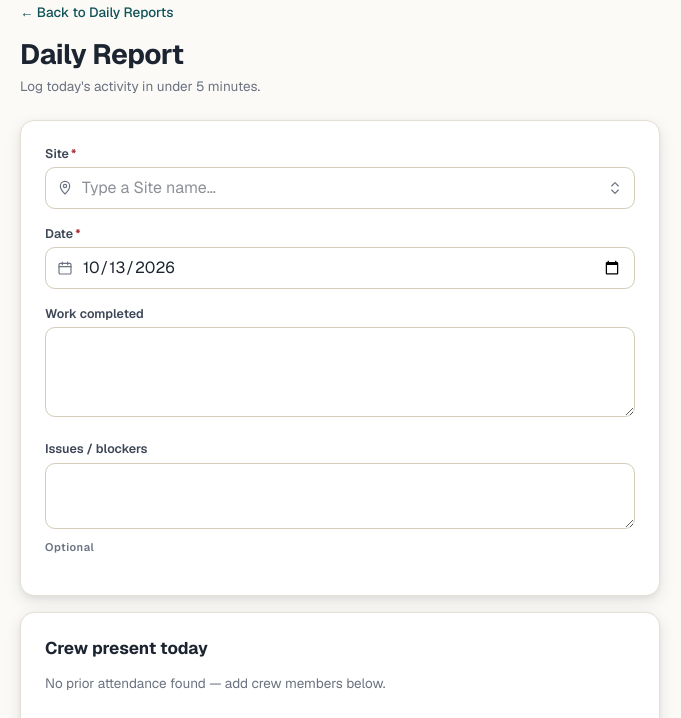
Test: NewDsrPage › shows the current Site Stock for a selected Material (FR-14 visibility)
Type "NH" into the dropdown labelled "Site".
click(340, 188); type("NH")  # box [45,167,635,209]
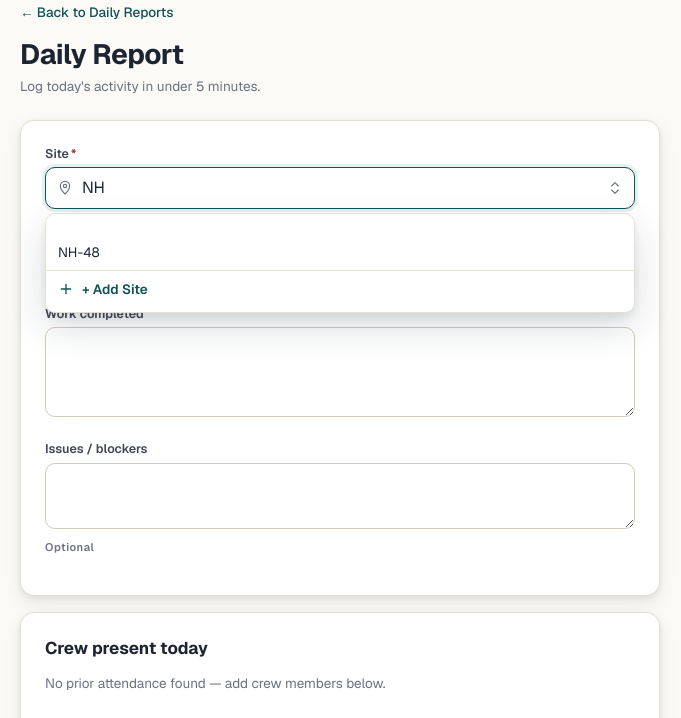
Click the option "NH-48".
click(79, 252)  # box [58,243,100,261]
(page scrolled)
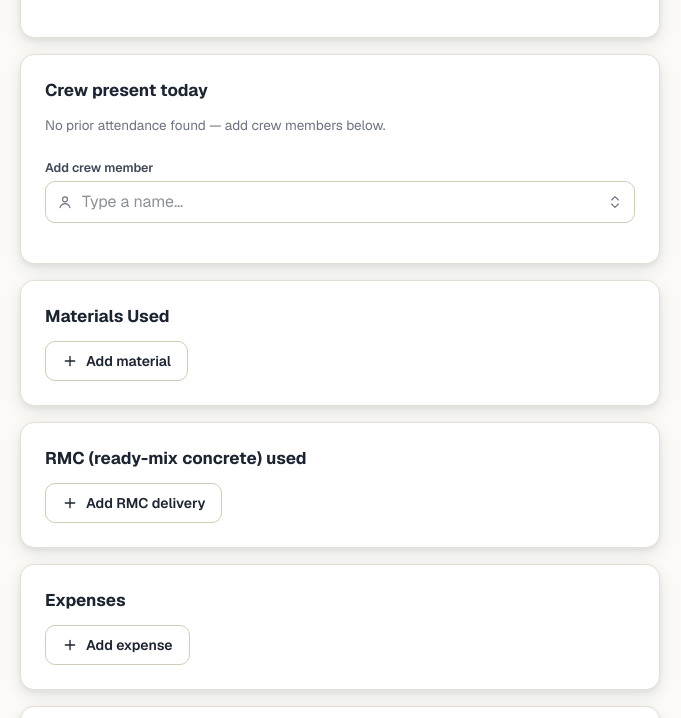
Click the button "Add material".
click(116, 361)  # box [45,341,188,381]
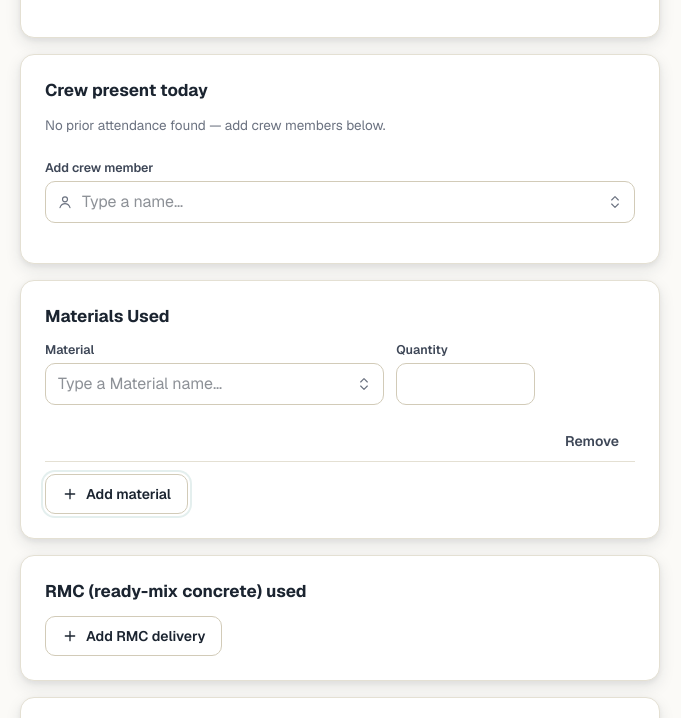
Check: the dropdown labelled "Material" is enabled
Type "cem" into the dropdown labelled "Material".
click(215, 384); type("cem")  # box [45,363,384,405]
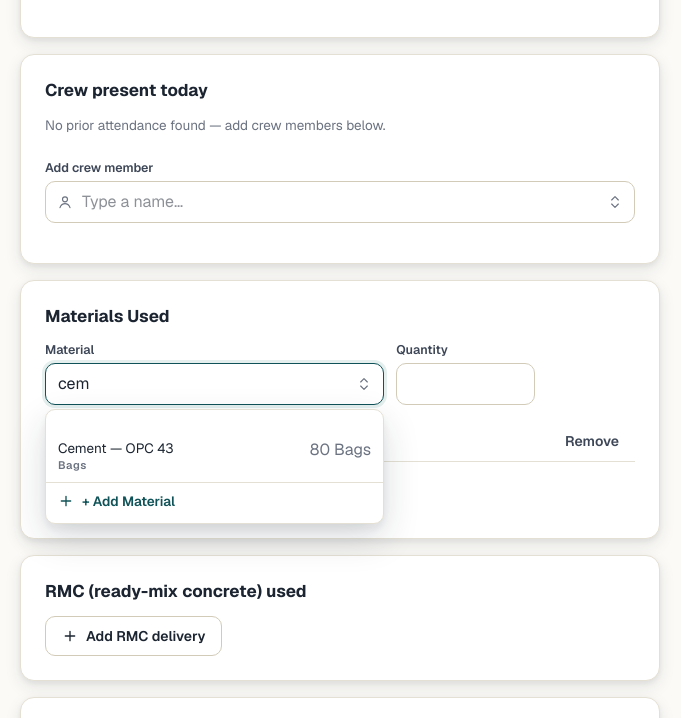
Click the text "Cement — OPC 43".
click(116, 448)  # box [58,438,174,458]
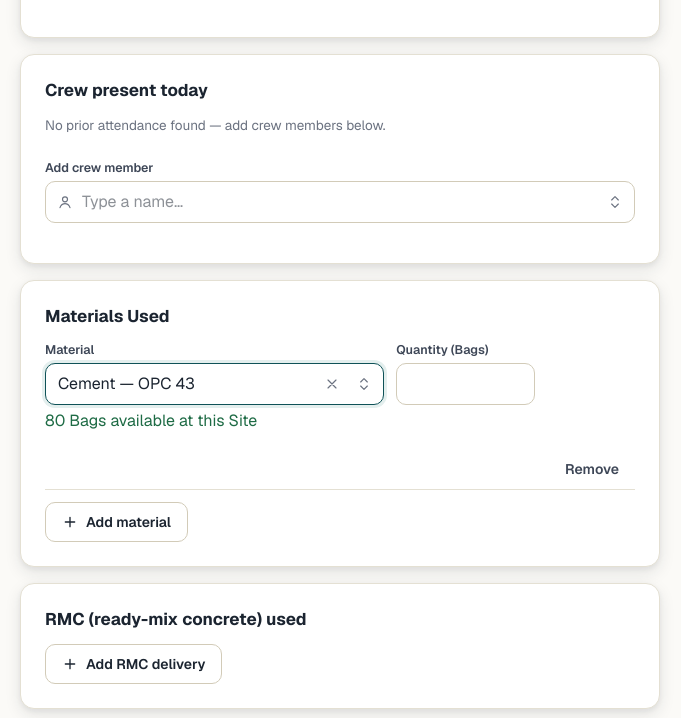
Check: the text "80 Bags available at this Site" is shown, box [45,410,257,431]
